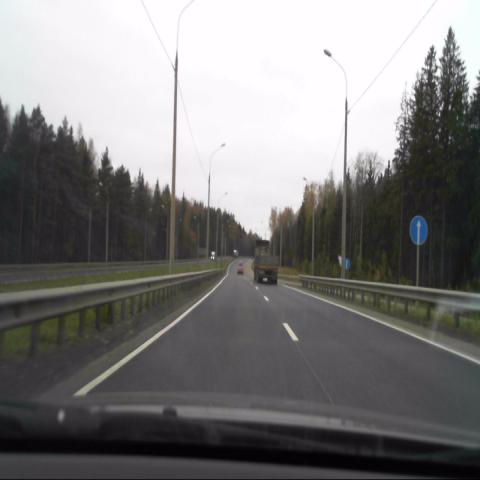2_4: (337, 257, 343, 267)
4_1_1: (409, 215, 428, 245)
